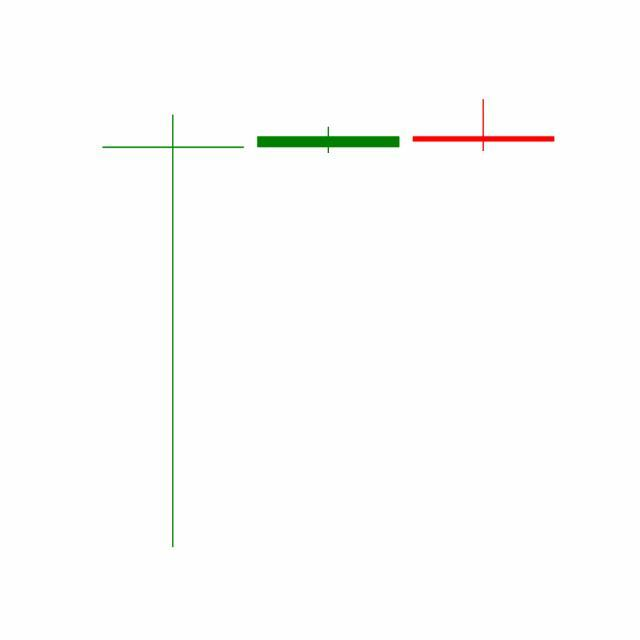Gravestone Doji: (406, 98, 562, 153)
